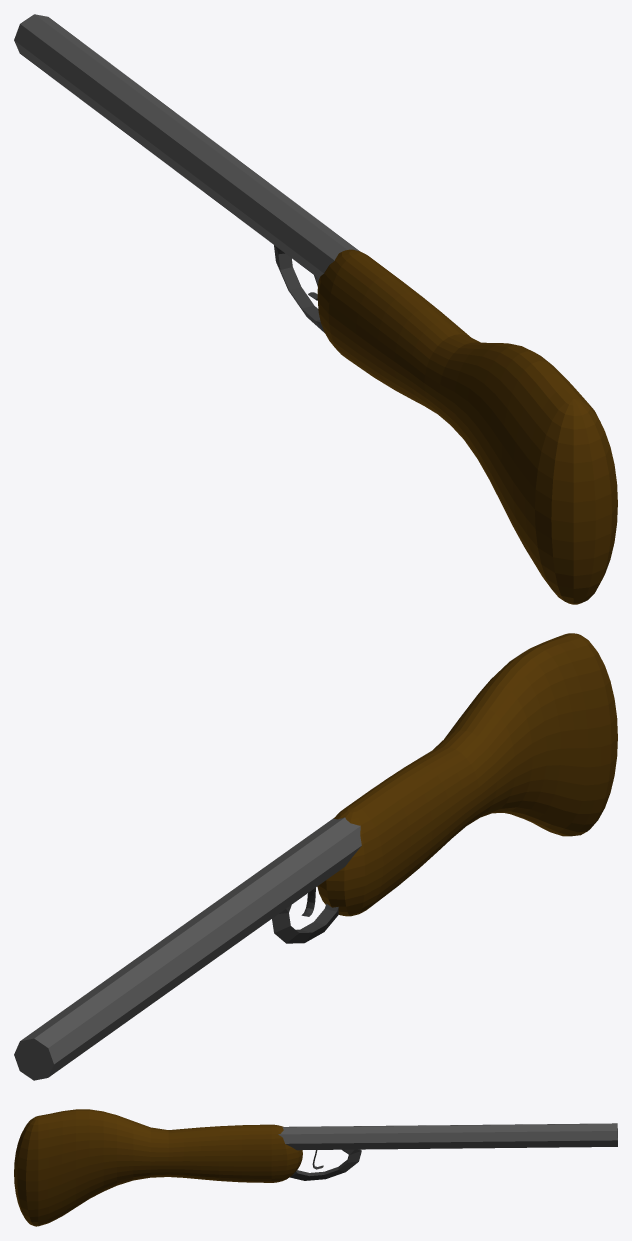
File: Lowpoly_gun.glb
3 renders of one model, top to bottom at view 1: azimuth 30°, elevation 25°; view 2: azimuth 150°, elevation 25°; view 3: azimuth 270°, elevation 25°, orthographic. The views are drawn at different scales.
Parts seen in each view (by area): view 1: Sphere, bARREL, Torus; view 2: Sphere, bARREL, Torus; view 3: Sphere, bARREL, Torus.
Part boxes in pixels (<box>): Sphere: <box>317,249,617,604</box>; bARREL: <box>14,14,359,278</box>; Torus: <box>274,245,324,332</box>; Sphere: <box>317,633,617,916</box>; bARREL: <box>14,817,361,1080</box>; Torus: <box>272,903,338,943</box>; Sphere: <box>14,1109,302,1226</box>; bARREL: <box>278,1123,617,1150</box>; Torus: <box>290,1149,361,1180</box>.
Size of the model in its own units: 0.2694 by 0.7116 by 3.39.
